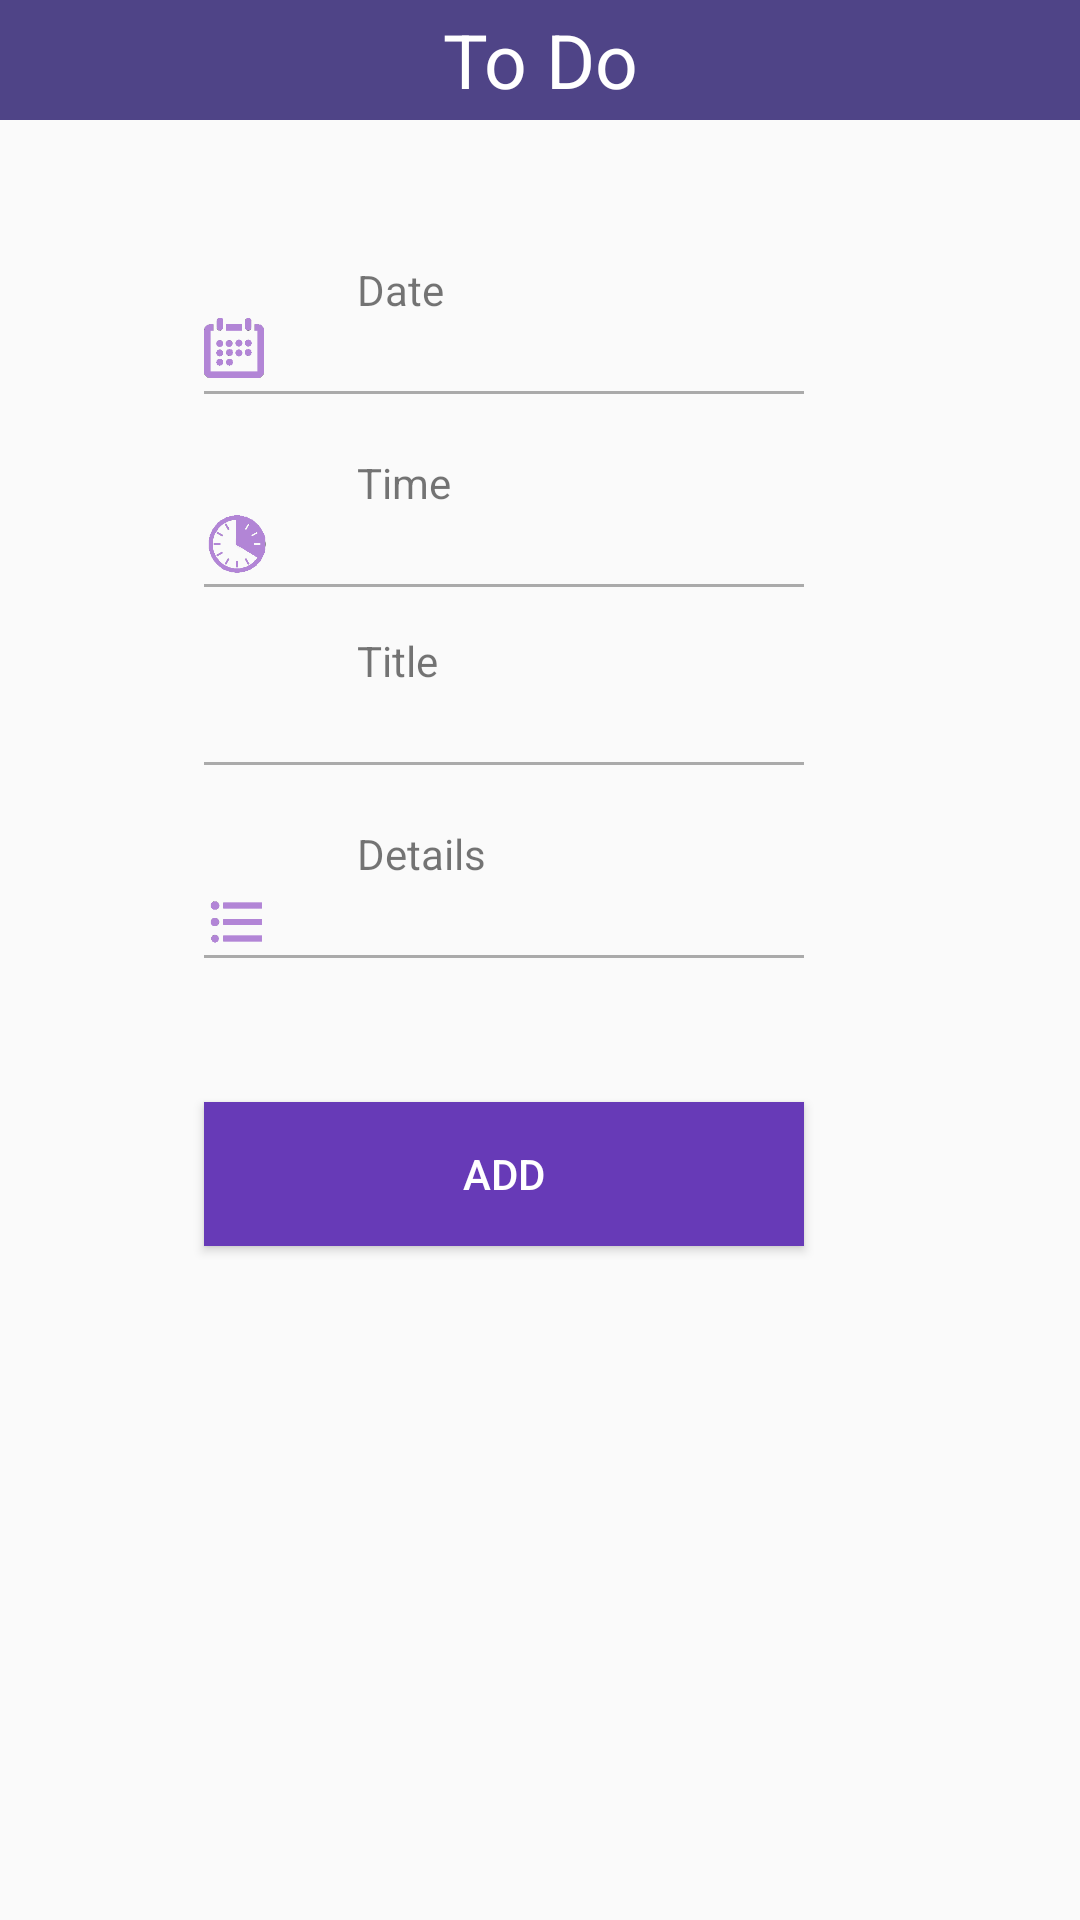

Named icons in this screenshot (1080*1920) and their centers, (x=x, y=y):
calendar: (x=234, y=348)
clock: (x=237, y=544)
list: (x=236, y=922)
